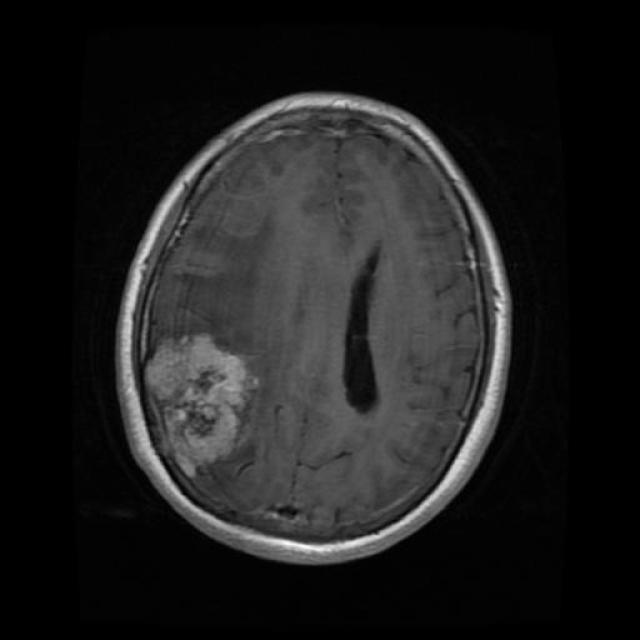Meningioma: (146, 334, 257, 477)
